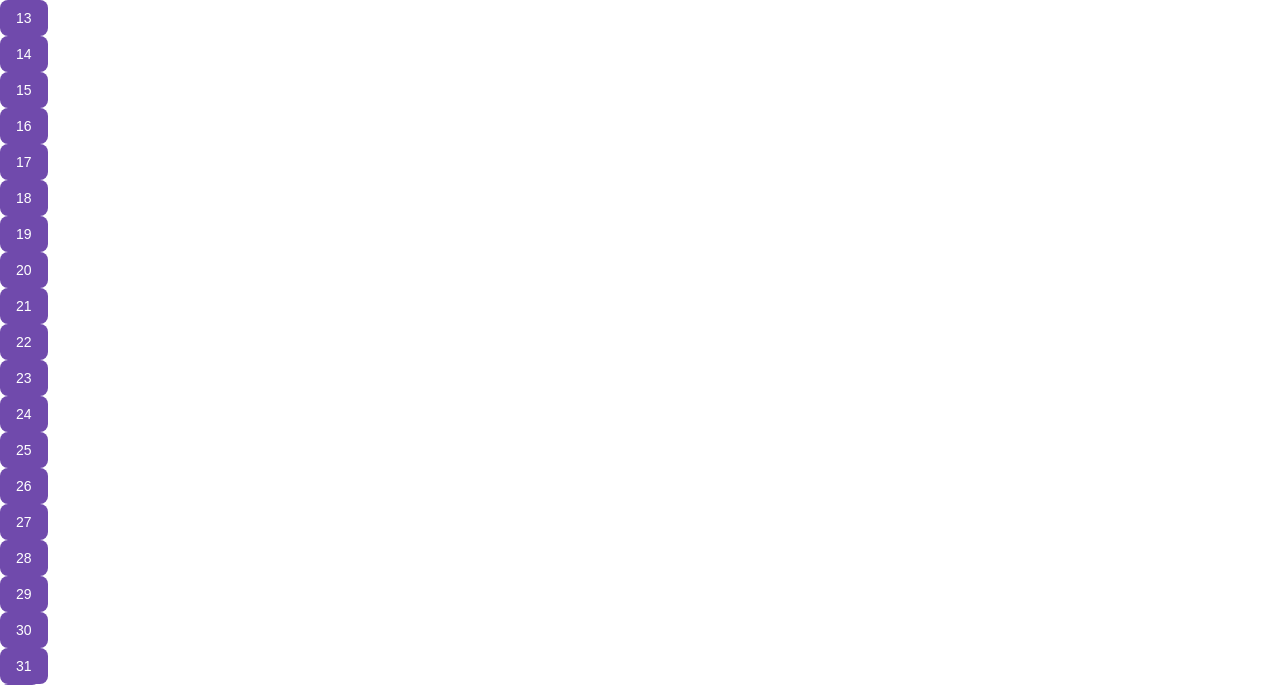
Test case: MonthCard › opens an event in a popover beside its chip
(page scrolled)
What coordinates should you click on to do the following:
click the button "Industry Panel"
I would click on:
 (108, 342)
Its box is [48,324,169,360].
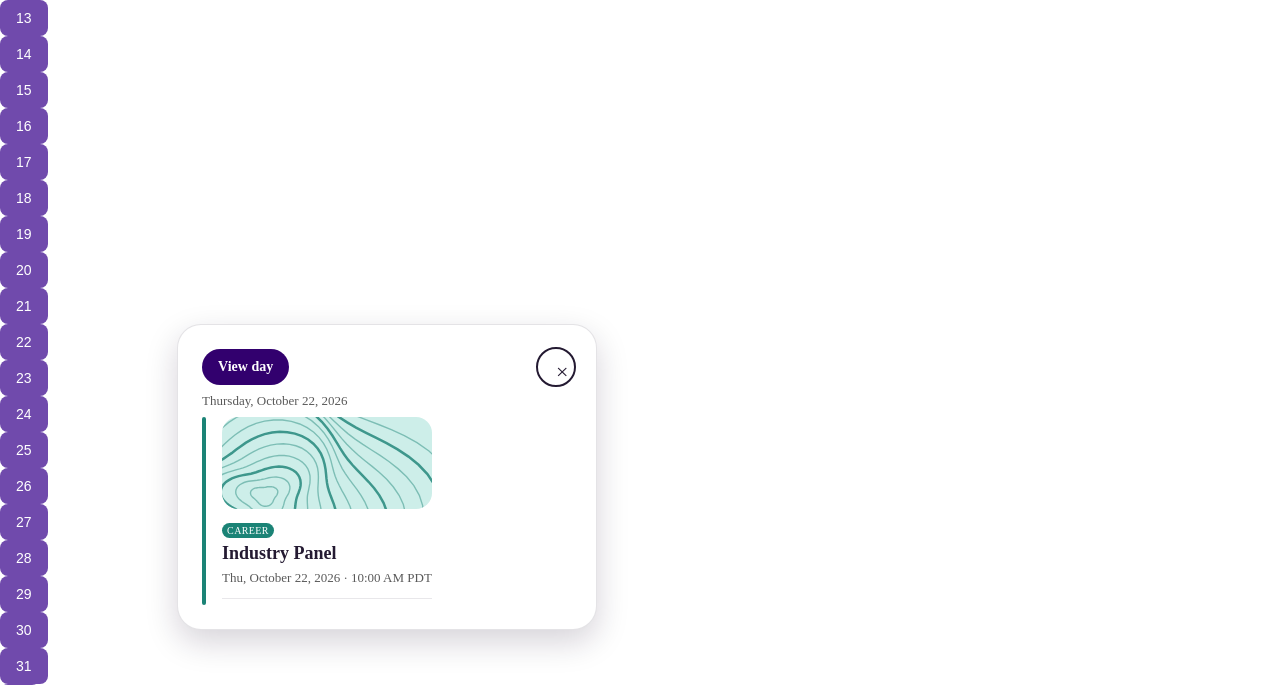
expect the text "Thursday, October 22, 2026" is shown: met, box [202,393,348,408]
